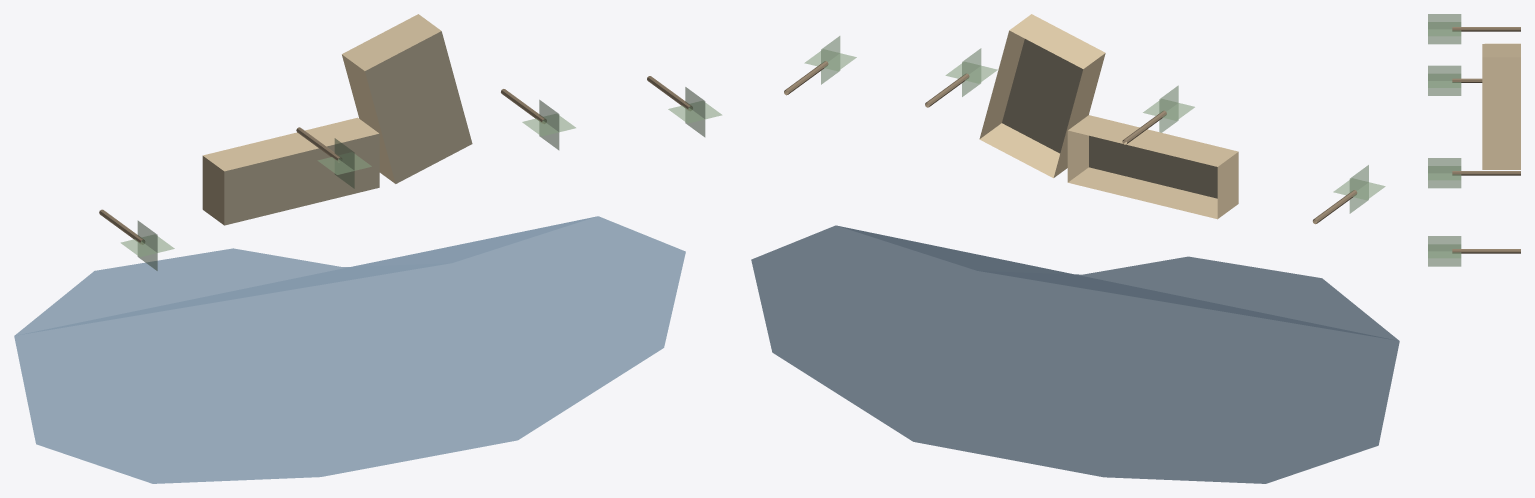
3 renders of one model, left to right at view 1: azimuth 30°, elevation 25°; view 2: azimuth 150°, elevation 25°; view 3: azimuth 270°, elevation 25°, orthographic. The views are drawn at different scales.
Visible parts, largest first — view 1: Water_01, House_01, House_02, TreeMass_02, TreeMass_03, TreeMass_04, TreeMass_01; view 2: Water_01, House_01, House_02, TreeMass_03, TreeMass_01, TreeMass_04, TreeMass_02; view 3: House_01, TreeMass_01, TreeMass_03, TreeMass_04, TreeMass_02.
Part boxes in pixels (x1,y1,x2,y2): Water_01: (14, 216, 685, 483); House_01: (342, 14, 472, 183); House_02: (202, 117, 379, 225); TreeMass_02: (296, 127, 371, 188); TreeMass_03: (501, 89, 575, 149); TreeMass_04: (647, 76, 721, 136); TreeMass_01: (99, 209, 174, 270); Water_01: (751, 225, 1399, 483); House_01: (979, 14, 1105, 178); House_02: (1067, 115, 1238, 219); TreeMass_03: (925, 48, 997, 107); TreeMass_01: (1312, 165, 1385, 224); TreeMass_04: (784, 36, 856, 95); TreeMass_02: (1122, 85, 1194, 144); House_01: (1482, 44, 1520, 169); TreeMass_01: (1428, 14, 1520, 44); TreeMass_03: (1428, 158, 1520, 188); TreeMass_04: (1428, 236, 1520, 266); TreeMass_02: (1428, 65, 1482, 95).
Size of the model in its own units: 14.56 by 9.33 by 2.1.
